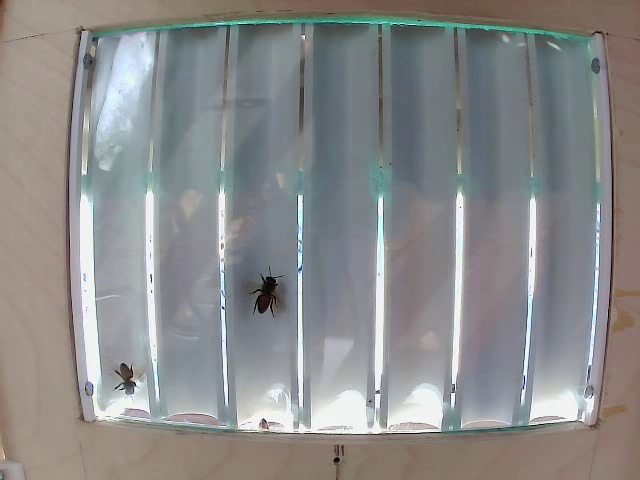bee: (245, 269, 288, 316), (112, 364, 147, 397)
